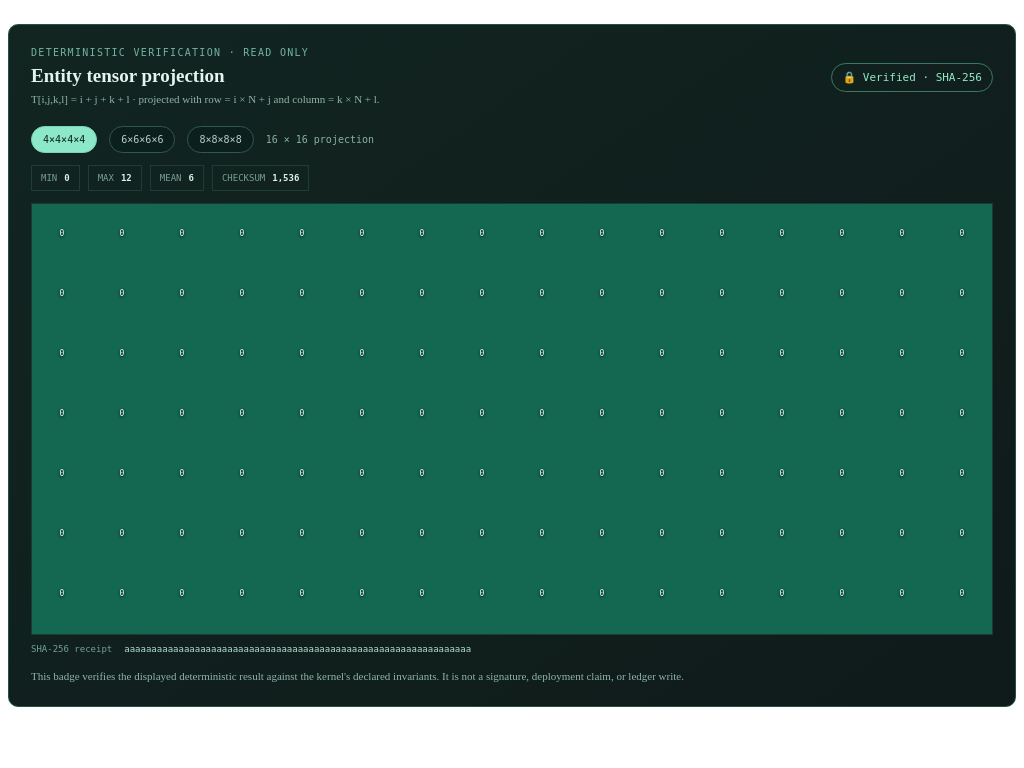
Test: TensorDavVisualizer › renders a verified checksum and switches projections
The image size is (1024, 768).
Check: the text named "SHA-256 verified" is shown, box 831,63 -> 993,92
Check: the text "1,536" is shown, box 272,172 -> 299,182
Click the text named "row 0, column 0, value 0 plus 0 plus 0 plus 0 equals 0".
click(62, 234)  # box 32,204 -> 92,264
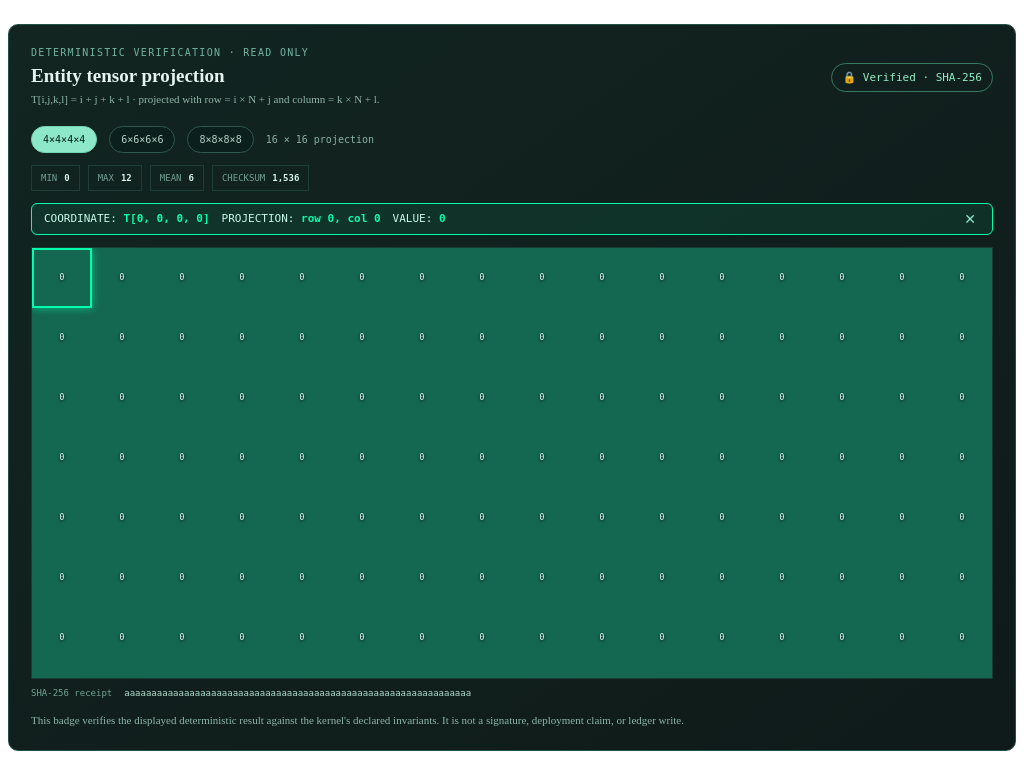
Check: the element named "Selected tensor coordinate" is shown, box 31,202 -> 993,234
Check: the text "T[0, 0, 0, 0]" is shown, box 124,212 -> 210,225
Click the button "6×6×6×6".
click(142, 139)  # box 109,126 -> 175,152
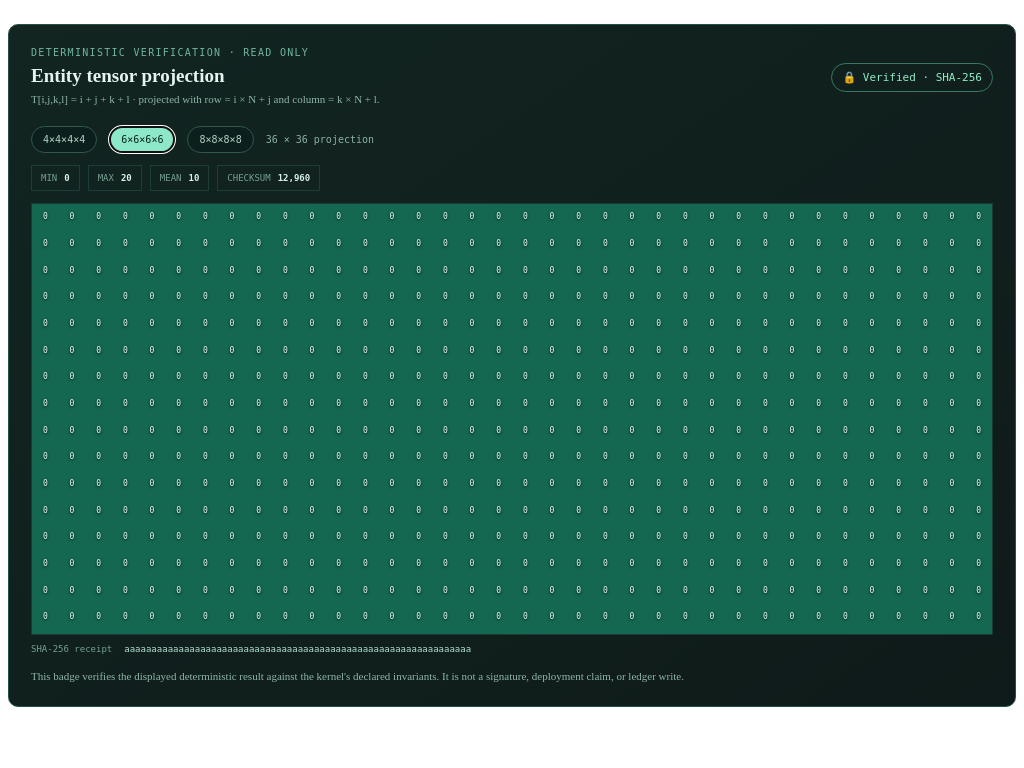
Check: the text "36 × 36 projection" is shown, box 266,134 -> 374,144
